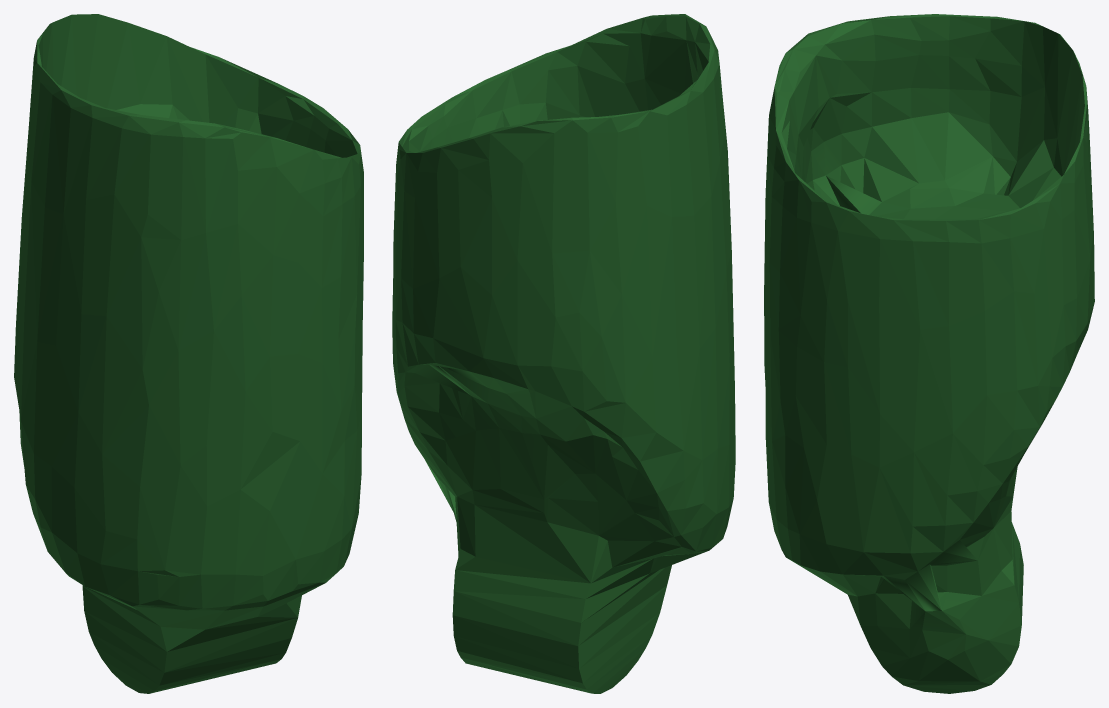
Rendered from sim_sea_2-5_r_thigh_prt.obj.
3 renders of one model, left to right at view 1: azimuth 30°, elevation 25°; view 2: azimuth 150°, elevation 25°; view 3: azimuth 270°, elevation 25°, orthographic. The views are drawn at different scales.
Parts seen in each view (by area): view 1: sim_sea_2-5_r_thigh_prt; view 2: sim_sea_2-5_r_thigh_prt; view 3: sim_sea_2-5_r_thigh_prt.
Part boxes in pixels (<box>): sim_sea_2-5_r_thigh_prt: <box>14,14,363,693</box>; sim_sea_2-5_r_thigh_prt: <box>392,14,735,693</box>; sim_sea_2-5_r_thigh_prt: <box>764,14,1094,693</box>.
Bounding box in the file's own units: 113 × 231 × 116.
